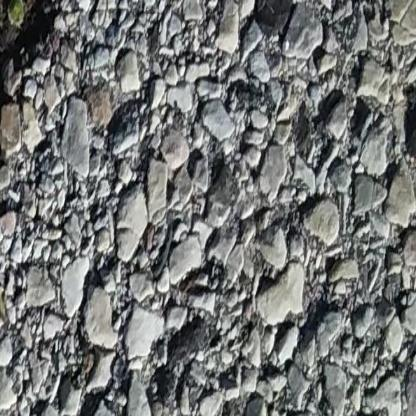Cracks: (0, 0, 80, 204)
